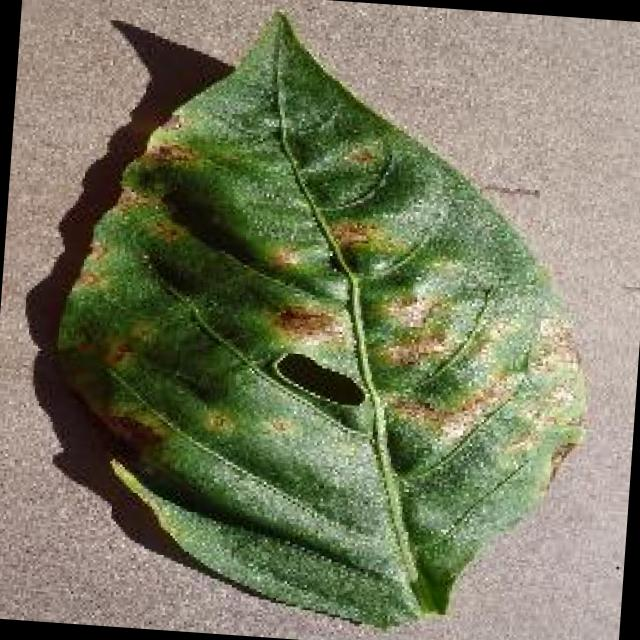Chilli_Bacterial_Spot: (29, 0, 615, 640), (369, 284, 455, 374), (266, 344, 371, 414), (266, 296, 339, 344), (98, 407, 164, 459), (374, 327, 447, 374), (330, 128, 391, 182), (380, 286, 438, 336), (325, 213, 375, 256), (194, 402, 239, 439), (95, 332, 134, 374), (338, 136, 380, 171), (262, 408, 294, 438)
